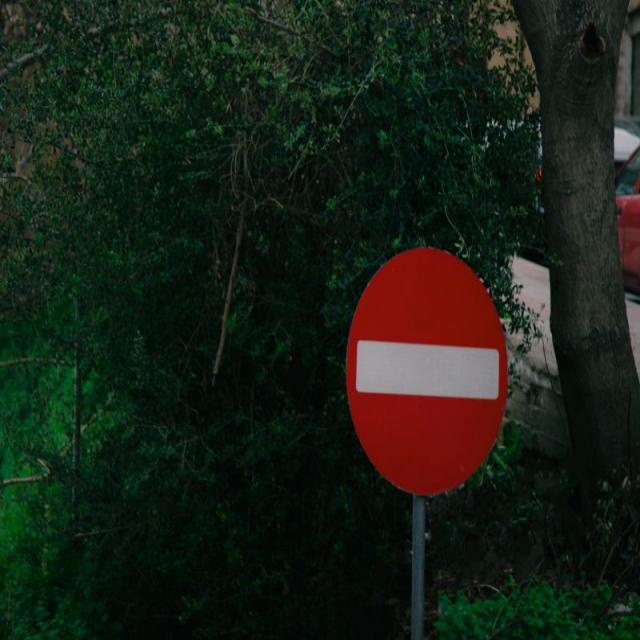no entry: (343, 245, 513, 497)
